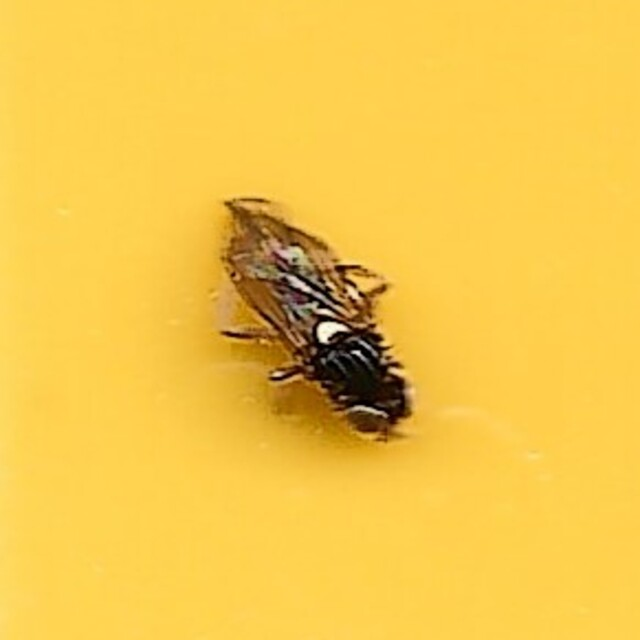Brachycera: (220, 189, 420, 451)
